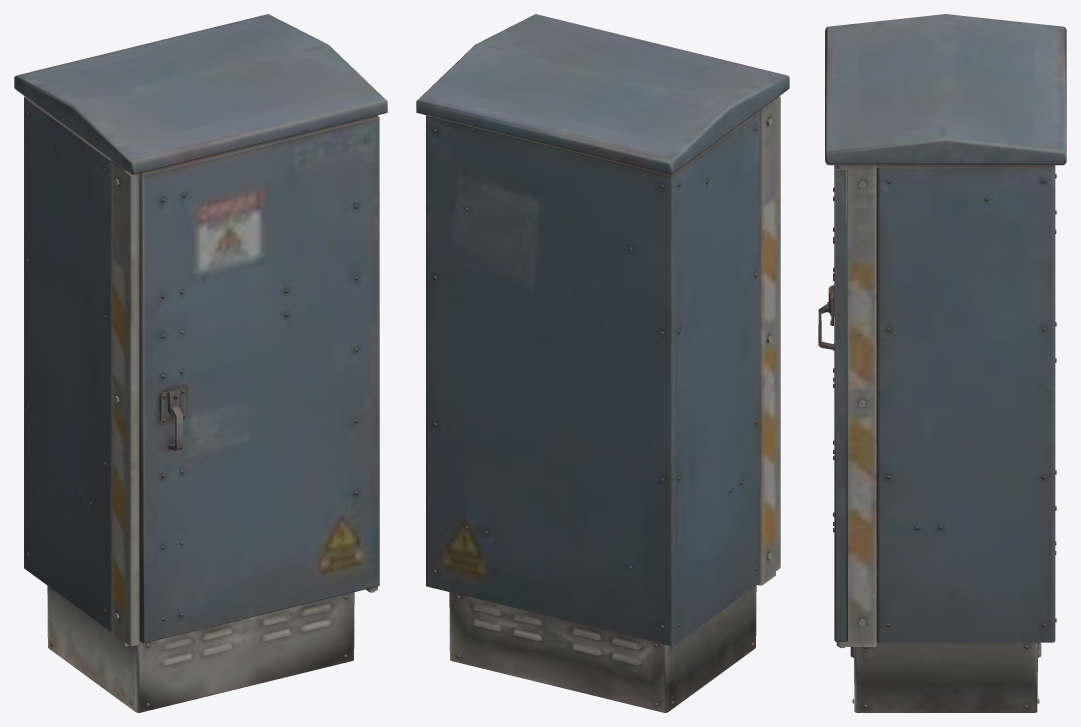
The model's file is utility_box_01.64ba9ef4.glb.
3 renders of one model, left to right at view 1: azimuth 30°, elevation 25°; view 2: azimuth 150°, elevation 25°; view 3: azimuth 270°, elevation 25°, orthographic.
Parts seen in each view (by area): view 1: utility_box_01_box; view 2: utility_box_01_box; view 3: utility_box_01_box.
Boxes of the visible parts, bbox=[...] form: utility_box_01_box: bbox=[14, 14, 387, 712]; utility_box_01_box: bbox=[416, 14, 789, 712]; utility_box_01_box: bbox=[818, 14, 1066, 712].
Size of the model in its own units: 0.52 by 1.12 by 0.432.
Materials: 1 (1 with a texture image).
